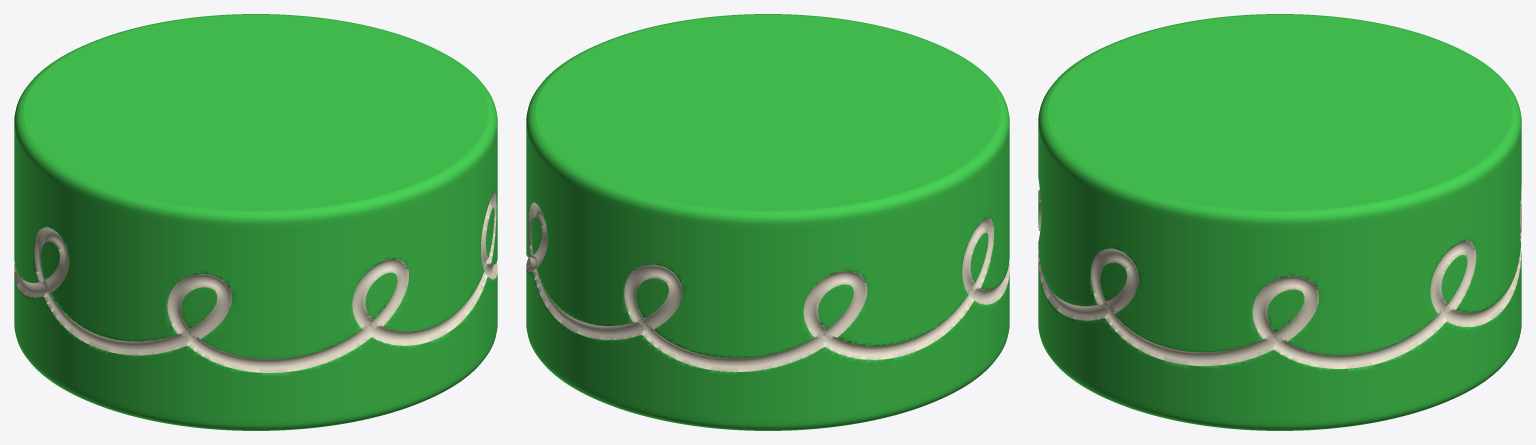
The model's file is tsumiki_green_stripe.fbx.
3 renders of one model, left to right at view 1: azimuth 30°, elevation 25°; view 2: azimuth 150°, elevation 25°; view 3: azimuth 270°, elevation 25°, orthographic.
Visible parts, largest first — view 1: Tumiki_Green; view 2: Tumiki_Green; view 3: Tumiki_Green.
Boxes of the visible parts, x1=… form: Tumiki_Green: x1=14, y1=14, x2=497, y2=430; Tumiki_Green: x1=526, y1=14, x2=1009, y2=430; Tumiki_Green: x1=1038, y1=14, x2=1521, y2=430.
Bounding box in the file's own units: 100 × 50 × 100.
